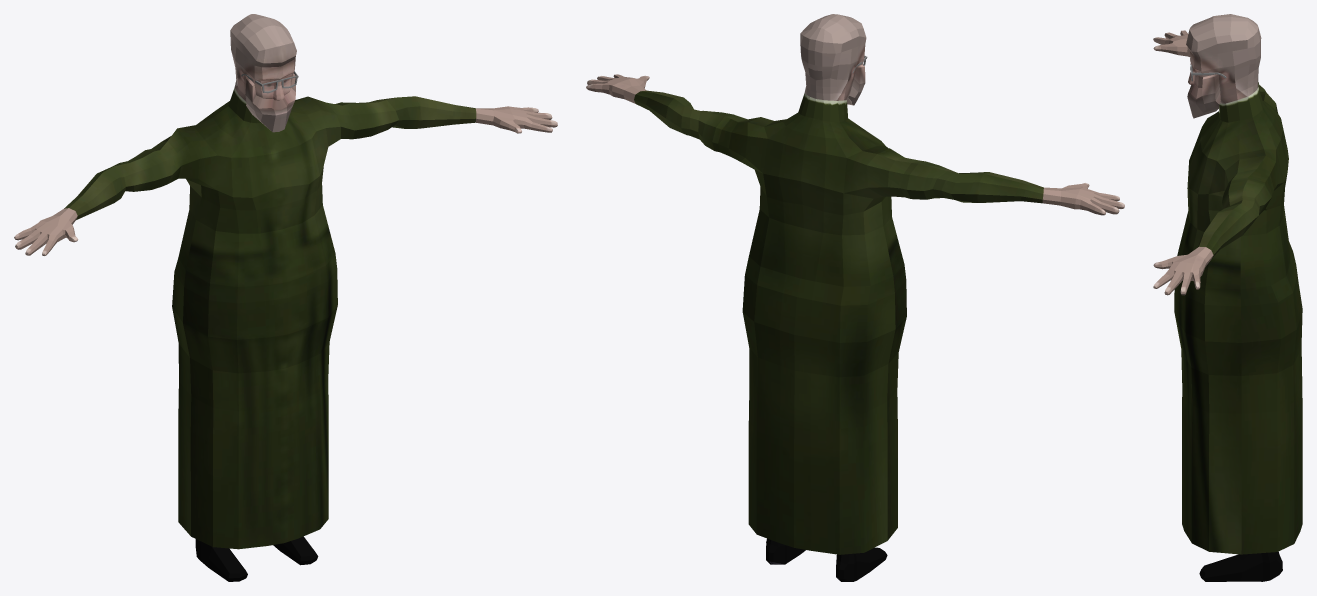
The model's file is churcherfinal.FBX.
3 views of the same model, side by side, from view 1: azimuth 30°, elevation 25°; view 2: azimuth 150°, elevation 25°; view 3: azimuth 270°, elevation 25° (orthographic).
Visible parts, largest first — view 1: CharacterModel.002; view 2: CharacterModel.002; view 3: CharacterModel.002.
Boxes of the visible parts, left/top/right/bottom form: CharacterModel.002: left=14, top=14, right=557, bottom=581; CharacterModel.002: left=586, top=14, right=1124, bottom=581; CharacterModel.002: left=1153, top=14, right=1302, bottom=581.
Size of the model in its own units: 70.25 by 68.08 by 16.98.
